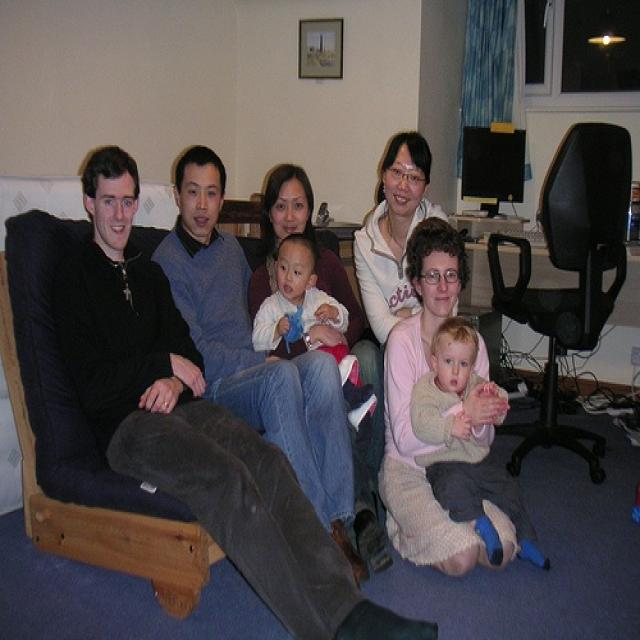chair: (493, 122, 634, 482)
person: (68, 146, 440, 639), (148, 146, 371, 592), (251, 163, 393, 571), (386, 218, 518, 580), (415, 320, 556, 573), (252, 235, 380, 440), (354, 127, 466, 361)
tvmonitor: (462, 122, 527, 211)
